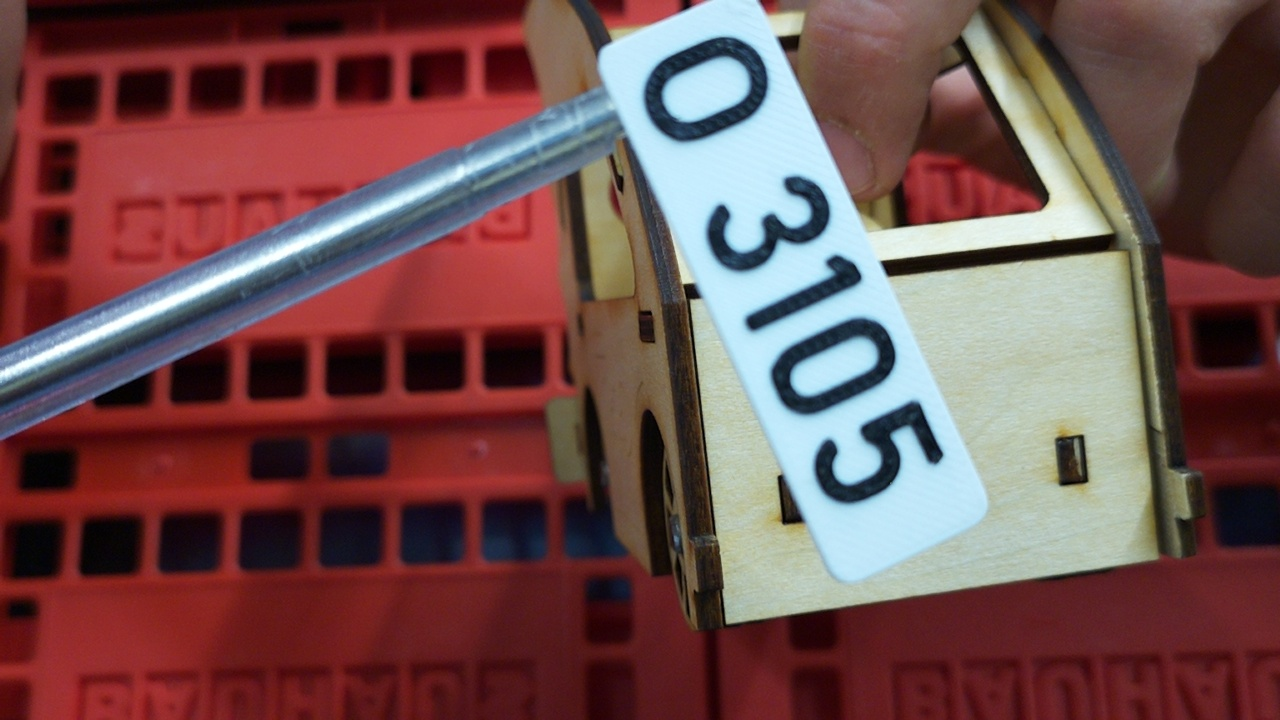license_plate: (591, 0, 990, 586)
